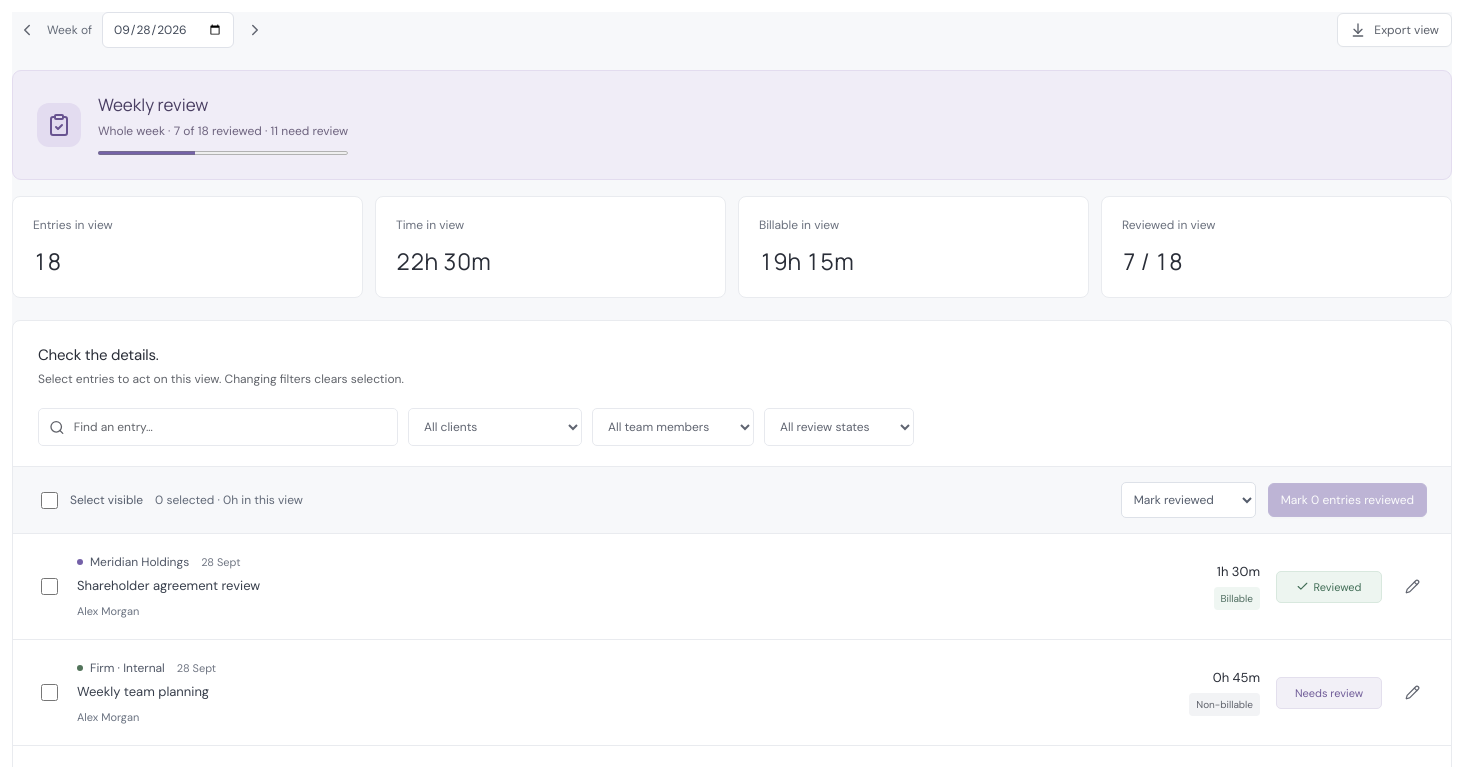
Scenario: weekly review view and action scope › clears selection when Review employee changes
Click the checkbox named "Select visible entries".
click(50, 500)  # box [41,492,58,508]
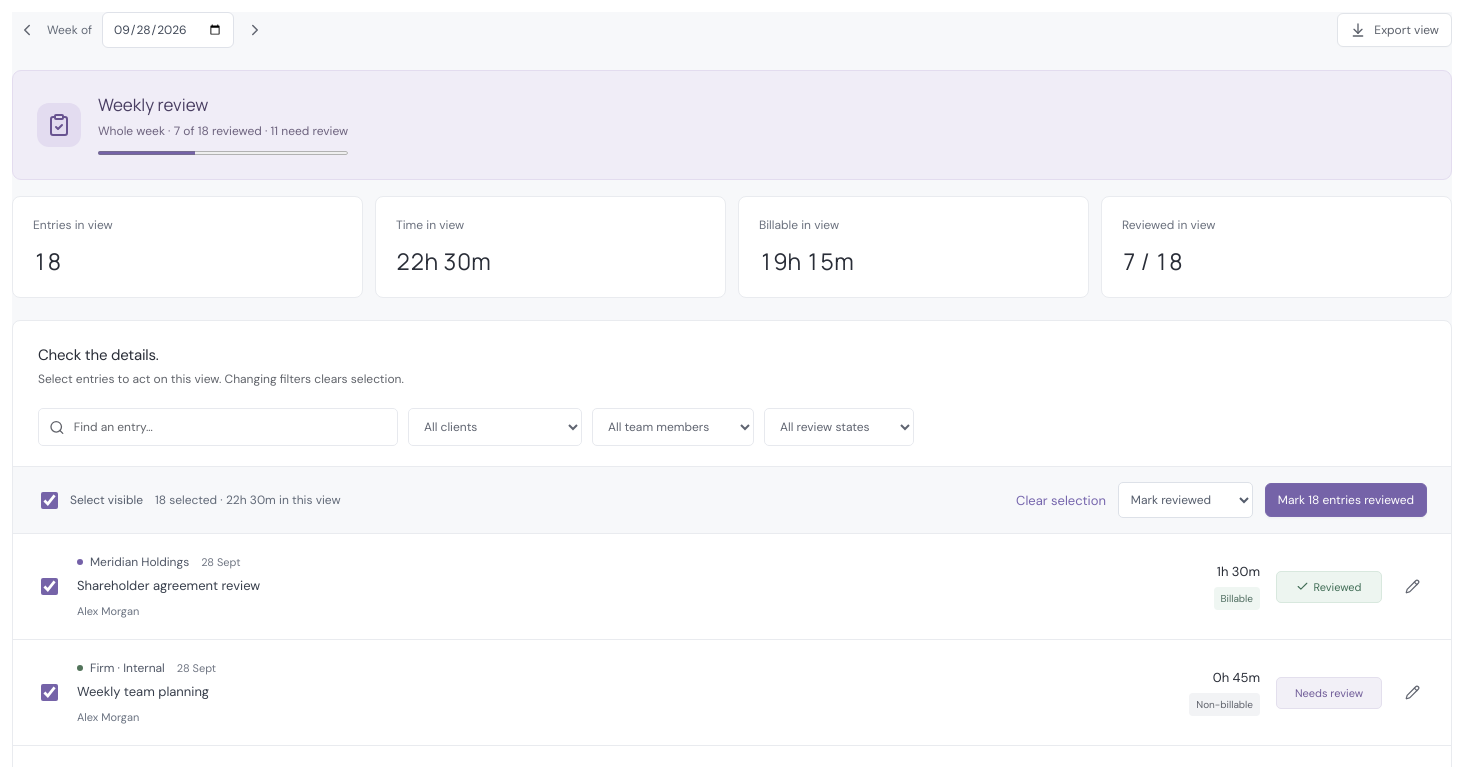
Select "Sofia Keller" in the dropdown named "Review employee" at (673, 427), box [592,408,754,446]
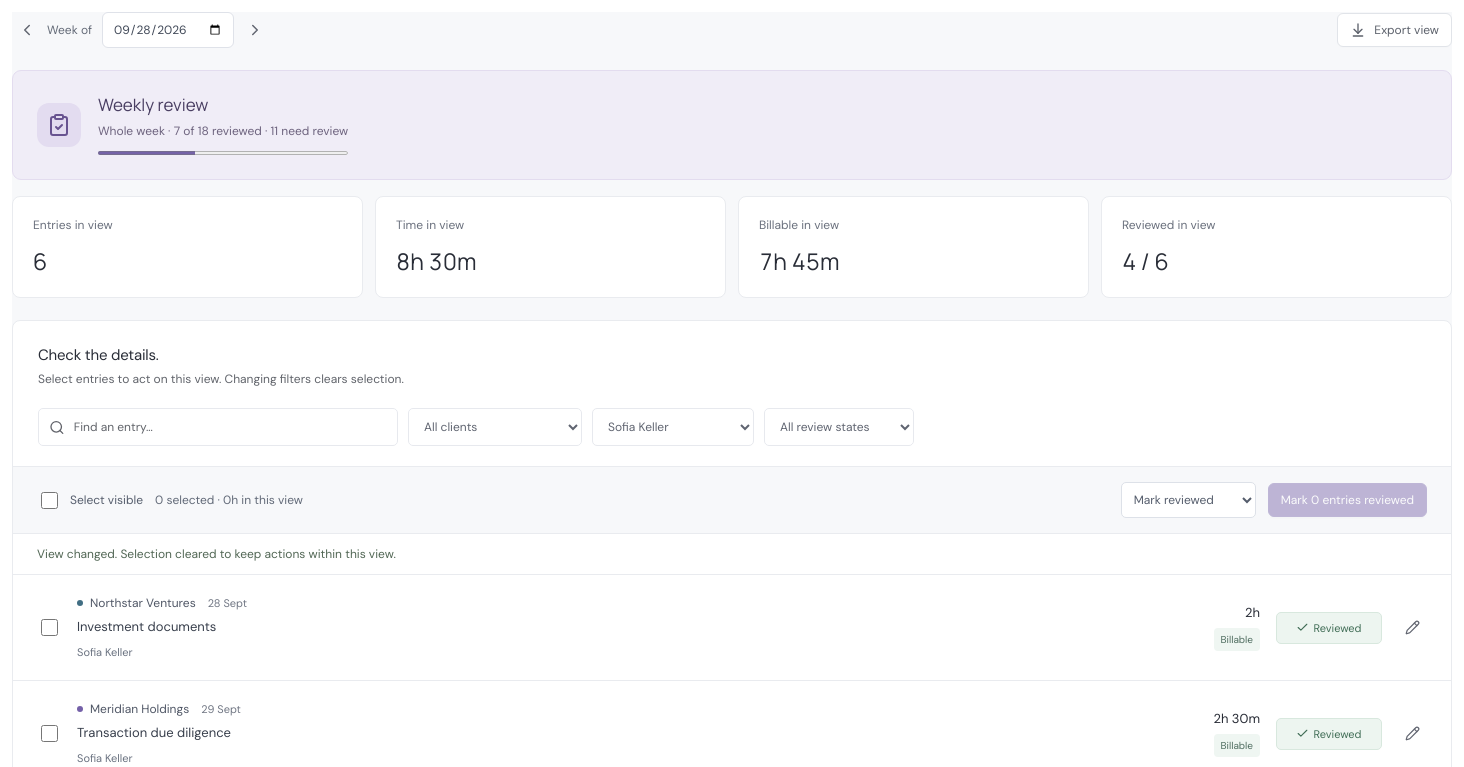
Expected: the button "Mark 0 entries reviewed" is disabled, [1268,483,1427,517]
Expected: the text "View changed. Selection cleared" is shown, [37,546,396,562]
